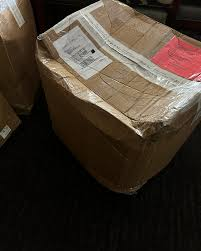damaged package: (96, 104, 184, 150), (35, 29, 70, 90)
